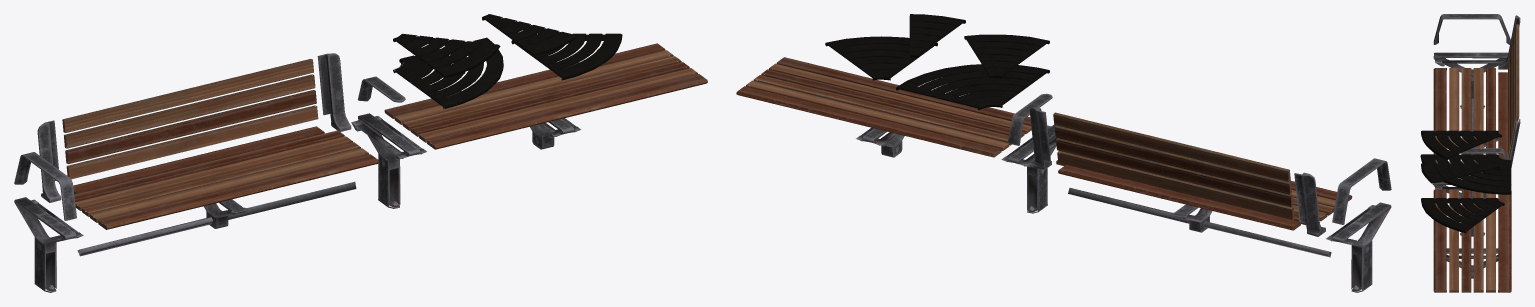
File: ASSET_modular_street_seating.glb
3 views of the same model, side by side, from view 1: azimuth 30°, elevation 25°; view 2: azimuth 150°, elevation 25°; view 3: azimuth 270°, elevation 25° (orthographic). The views are drawn at different scales.
Visible parts, largest first — view 1: ASSET_modular_street_seating; view 2: ASSET_modular_street_seating; view 3: ASSET_modular_street_seating.
Part boxes in pixels (box(x1,y1,x2,y2)): ASSET_modular_street_seating: box(14, 14, 707, 292); ASSET_modular_street_seating: box(736, 14, 1391, 292); ASSET_modular_street_seating: box(1420, 14, 1520, 292).
Bounding box in the file's own units: 4.34 × 0.951 × 0.7729.
Materials: 5 (5 with a texture image).
